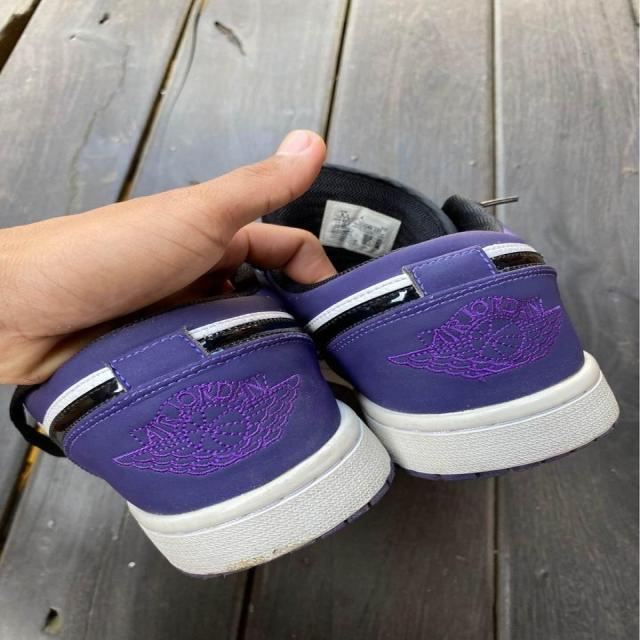nike fake jordan 1: (0, 280, 398, 585), (329, 228, 638, 478)
